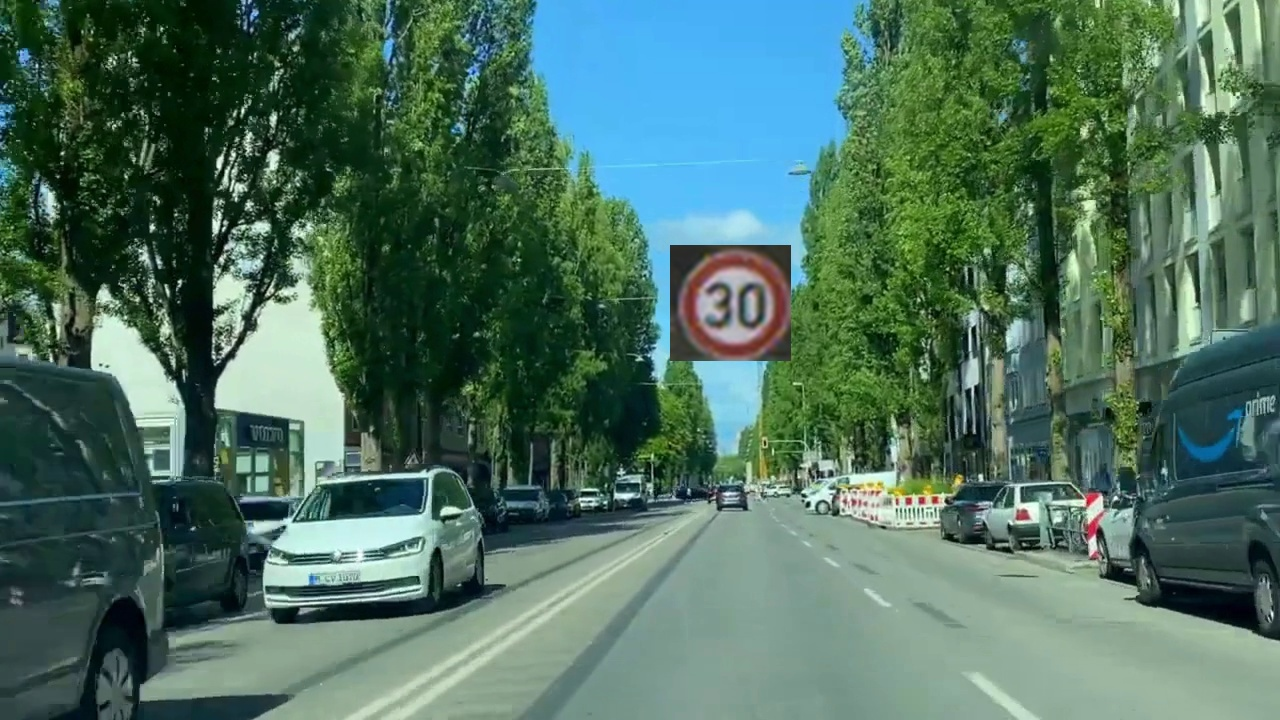Speed 30: (670, 245, 791, 361)
